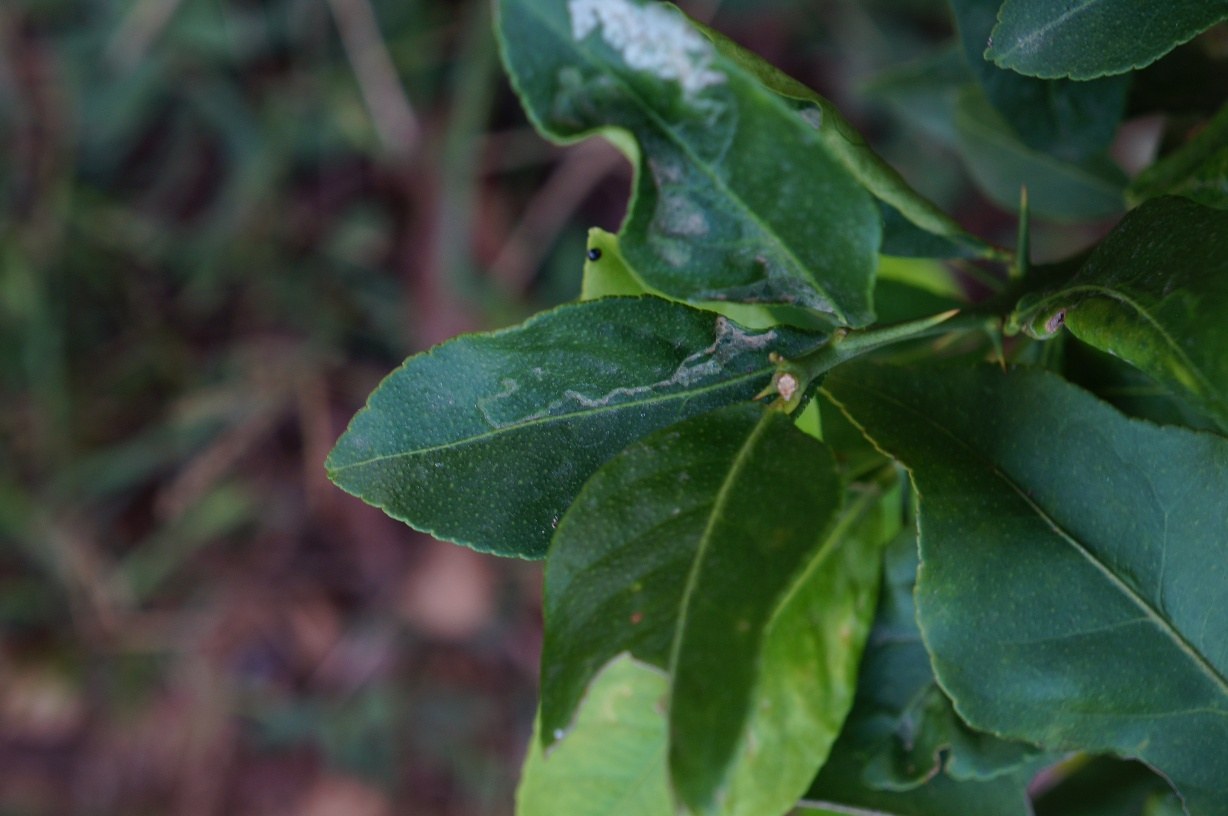damage: (442, 372, 757, 513)
